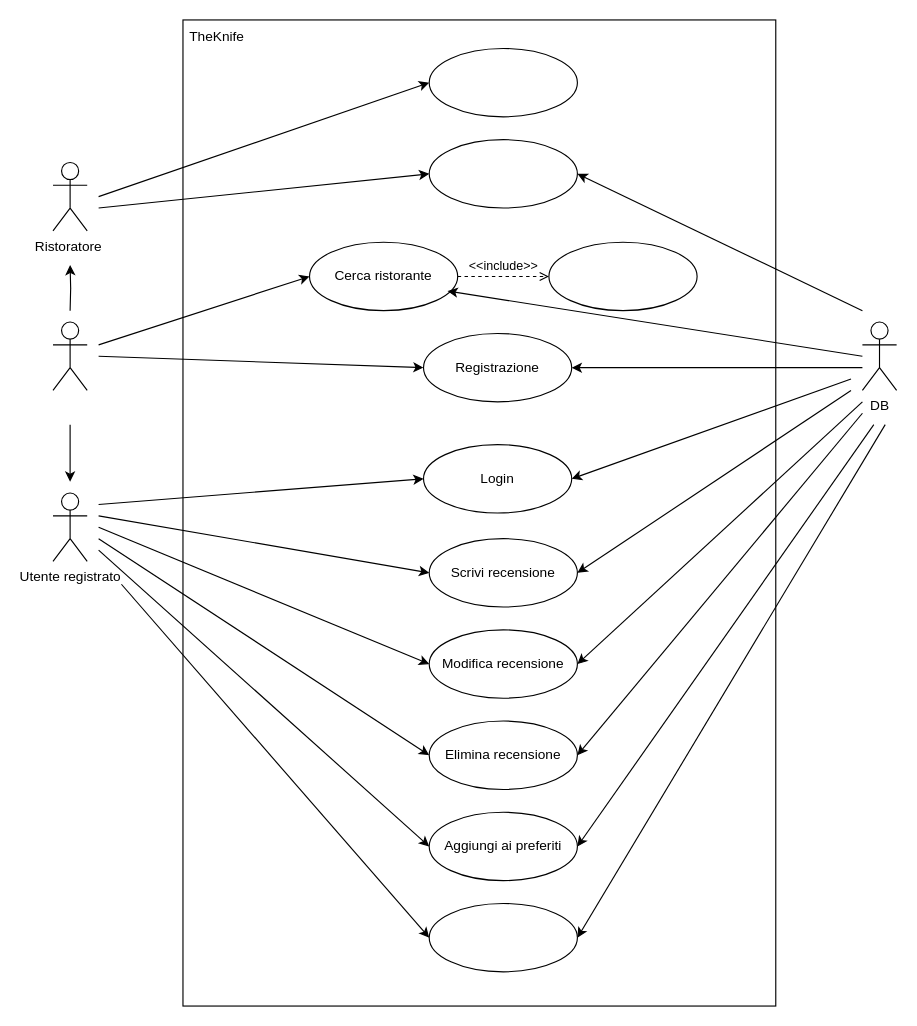
This 917x1026 diagram has some shape labels left out. Here are the shapes that lost their labels. From the top down, the centre of each, then its label:
At point 502,82: "Crea ristorante".
At point 502,173: "Aggiungi risposta".
At point 622,276: "Ricerca avanzata".
At point 69,355: "Utente".
At point 502,937: "Elimina dai preferiti".
